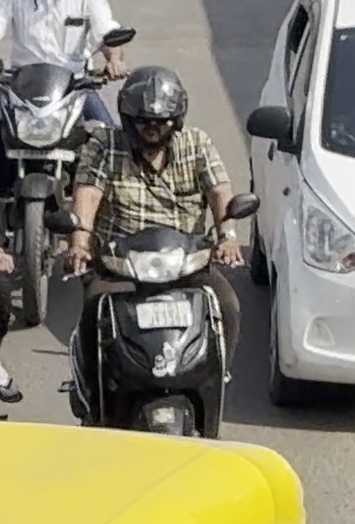BikeWithRider: (34, 57, 267, 465)
Helmet: (110, 56, 193, 158)
